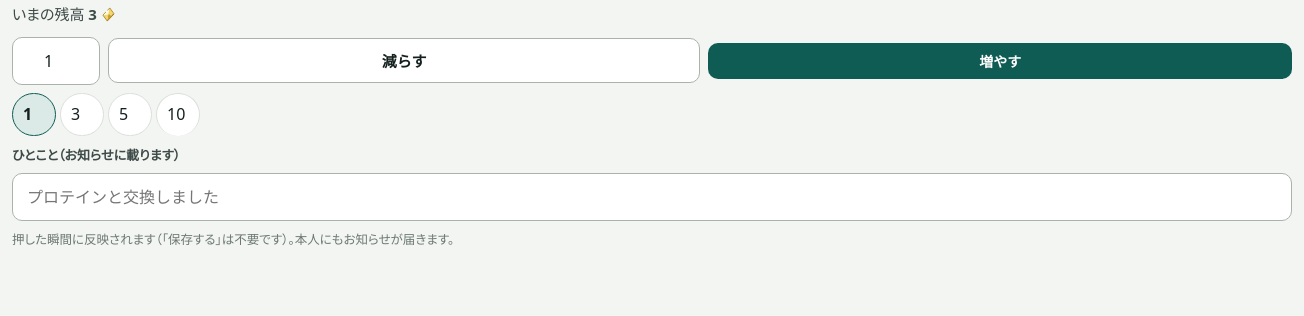
Test: ★ その場で動かす › ★ 引ききれなかったら、そう伝える
The image size is (1304, 316).
Replace the text in the number field with "5" at coordinates (56, 61), box [12,36,100,85]
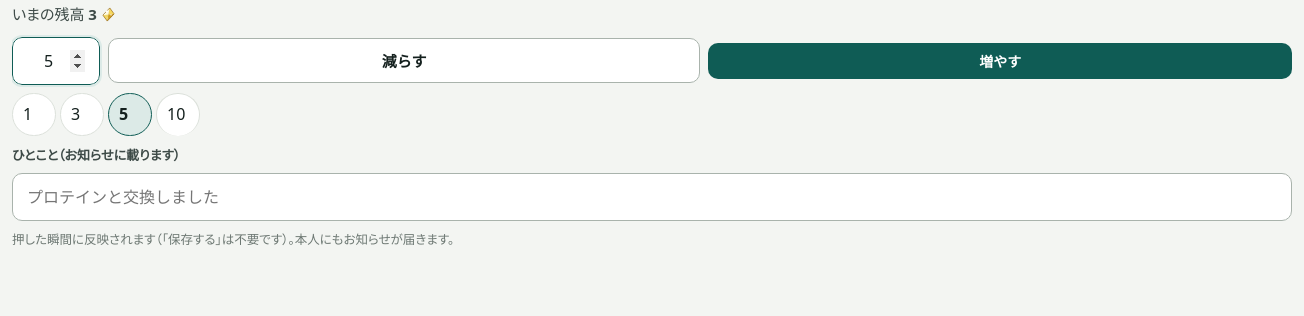
Click the button "減らす" at coordinates (404, 61), box [108,38,700,83]
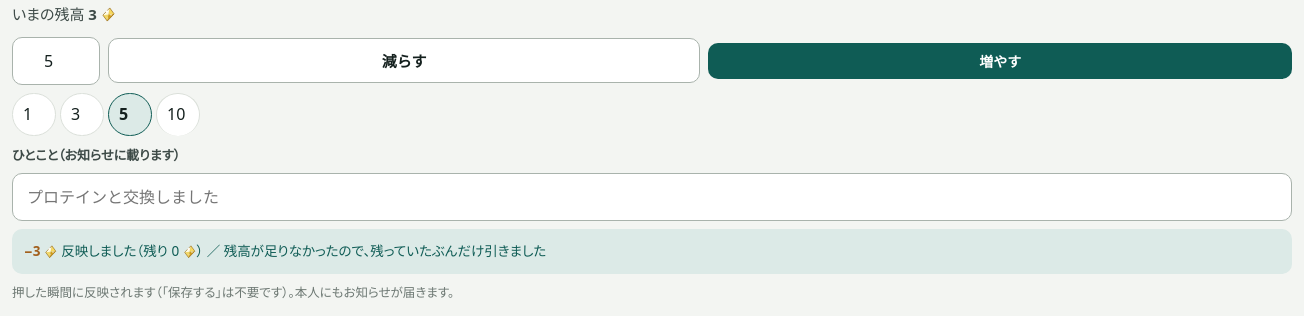
expect the message shows "残っていたぶんだけ": met, box [203,242,546,260]
